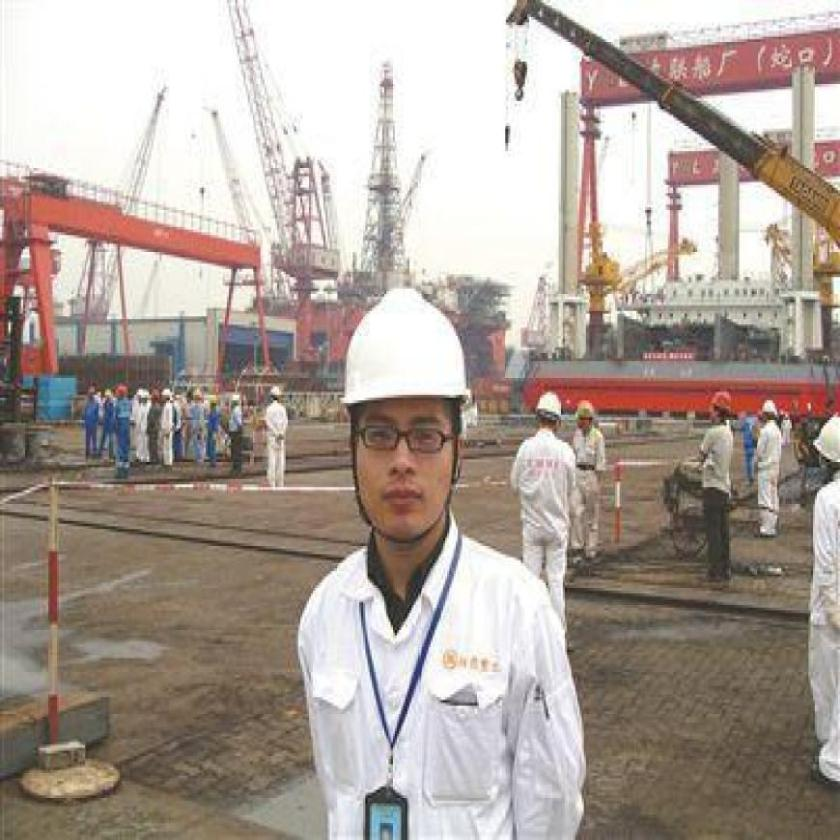Con_casco: (340, 268, 480, 554)
